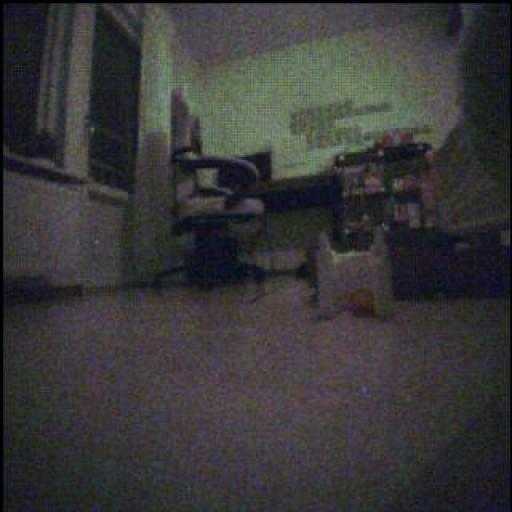basket: (348, 287, 373, 319)
